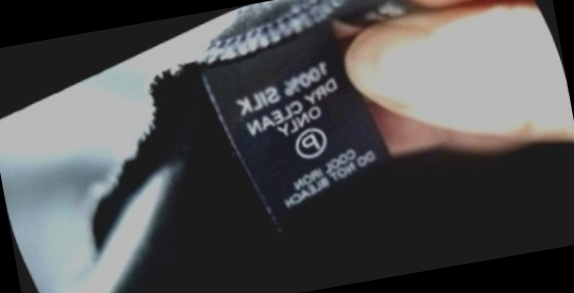dry_clean_any_solvent_except_trichloroethylene: (276, 110, 343, 176)
